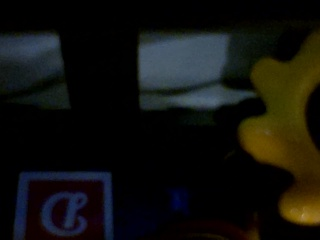D: (26, 177, 107, 240)
